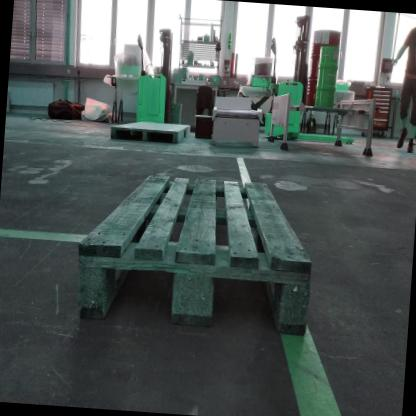BoxFace: (76, 170, 315, 340), (108, 119, 191, 145)
